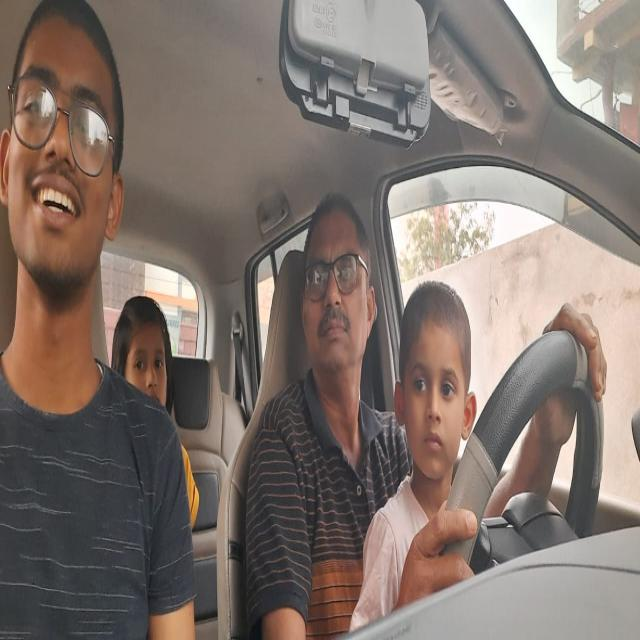child: (392, 284, 480, 478)
person: (0, 0, 133, 336), (294, 186, 385, 407), (113, 281, 175, 416)
